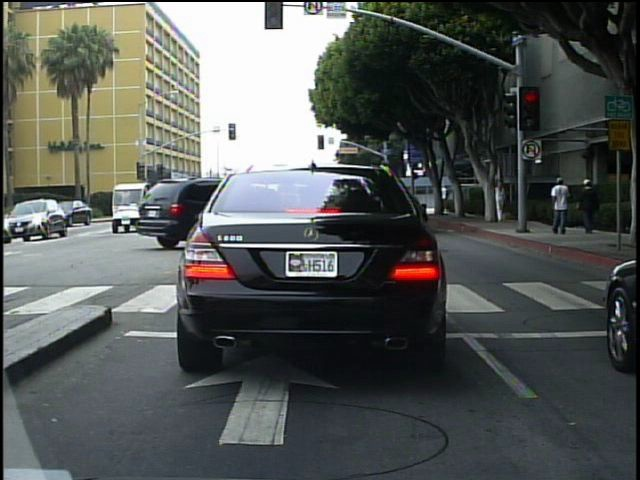person: (580, 170, 605, 240), (550, 173, 576, 235), (495, 179, 509, 223), (437, 179, 451, 215)
